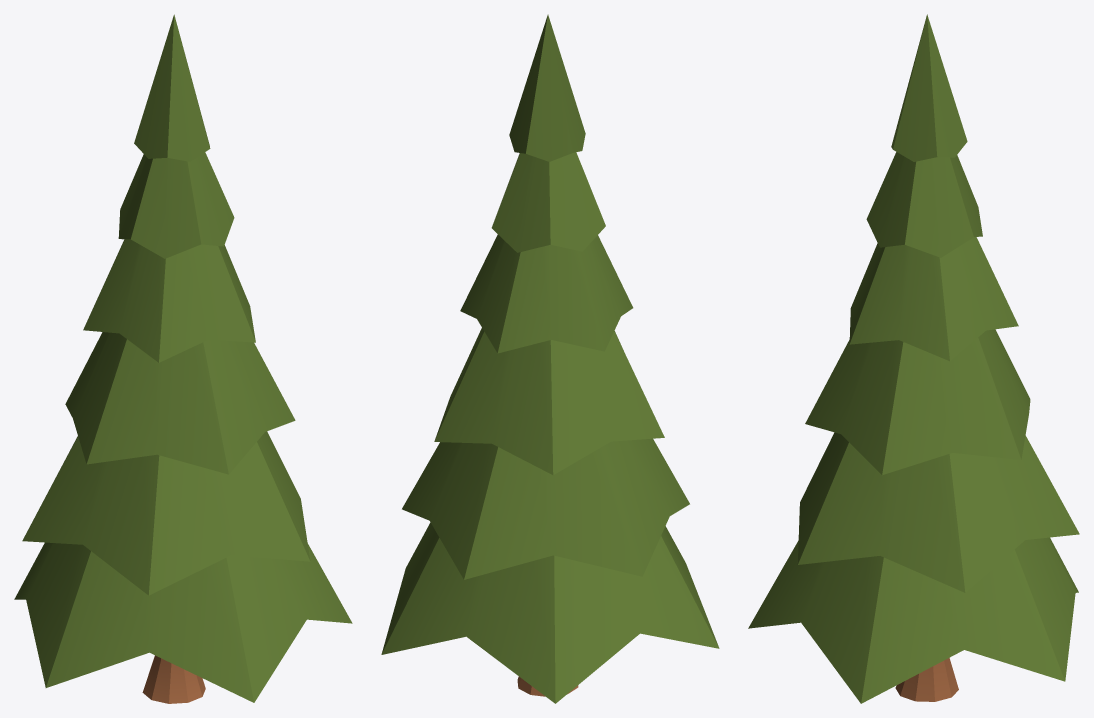
File: Tree4.glb
3 renders of one model, left to right at view 1: azimuth 30°, elevation 25°; view 2: azimuth 150°, elevation 25°; view 3: azimuth 270°, elevation 25°, orthographic.
Visible parts, largest first — view 1: Pinetree Leaves.002; view 2: Pinetree Leaves.002; view 3: Pinetree Leaves.002.
Part boxes in pixels (x1=…): Pinetree Leaves.002: x1=14, y1=14, x2=352, y2=703; Pinetree Leaves.002: x1=381, y1=14, x2=719, y2=703; Pinetree Leaves.002: x1=748, y1=14, x2=1079, y2=703.
Bounding box in the file's own units: 1.62 × 3.53 × 1.57.
